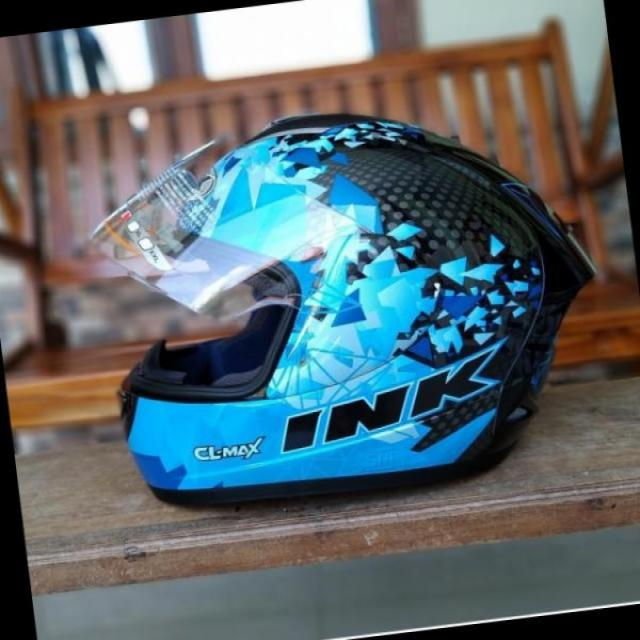Helmet: (87, 140, 582, 474)
